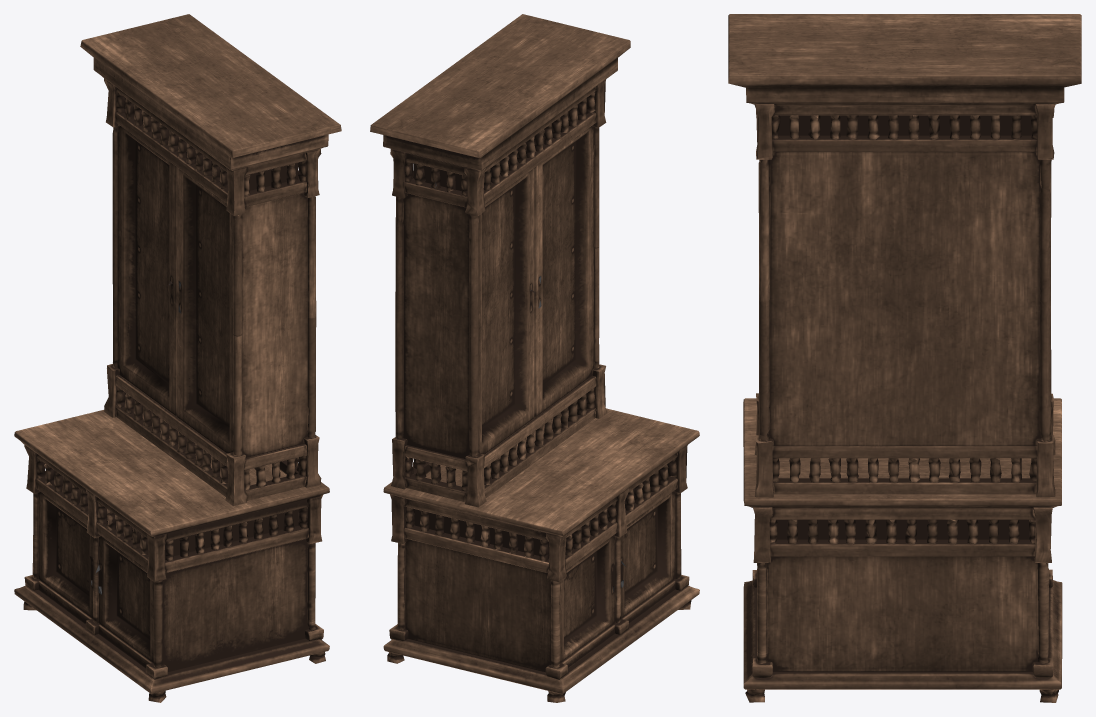
File: SM_cabinet_02.fbx
3 renders of one model, left to right at view 1: azimuth 30°, elevation 25°; view 2: azimuth 150°, elevation 25°; view 3: azimuth 270°, elevation 25°, orthographic. The views are drawn at different scales.
Visible parts, largest first — view 1: SM_cabinet_02_LOD0; view 2: SM_cabinet_02_LOD0; view 3: SM_cabinet_02_LOD0.
Boxes of the visible parts, bbox=[...] form: SM_cabinet_02_LOD0: bbox=[14, 14, 341, 702]; SM_cabinet_02_LOD0: bbox=[370, 14, 699, 702]; SM_cabinet_02_LOD0: bbox=[728, 14, 1081, 702].
Size of the model in its own units: 115 by 164 by 323.
